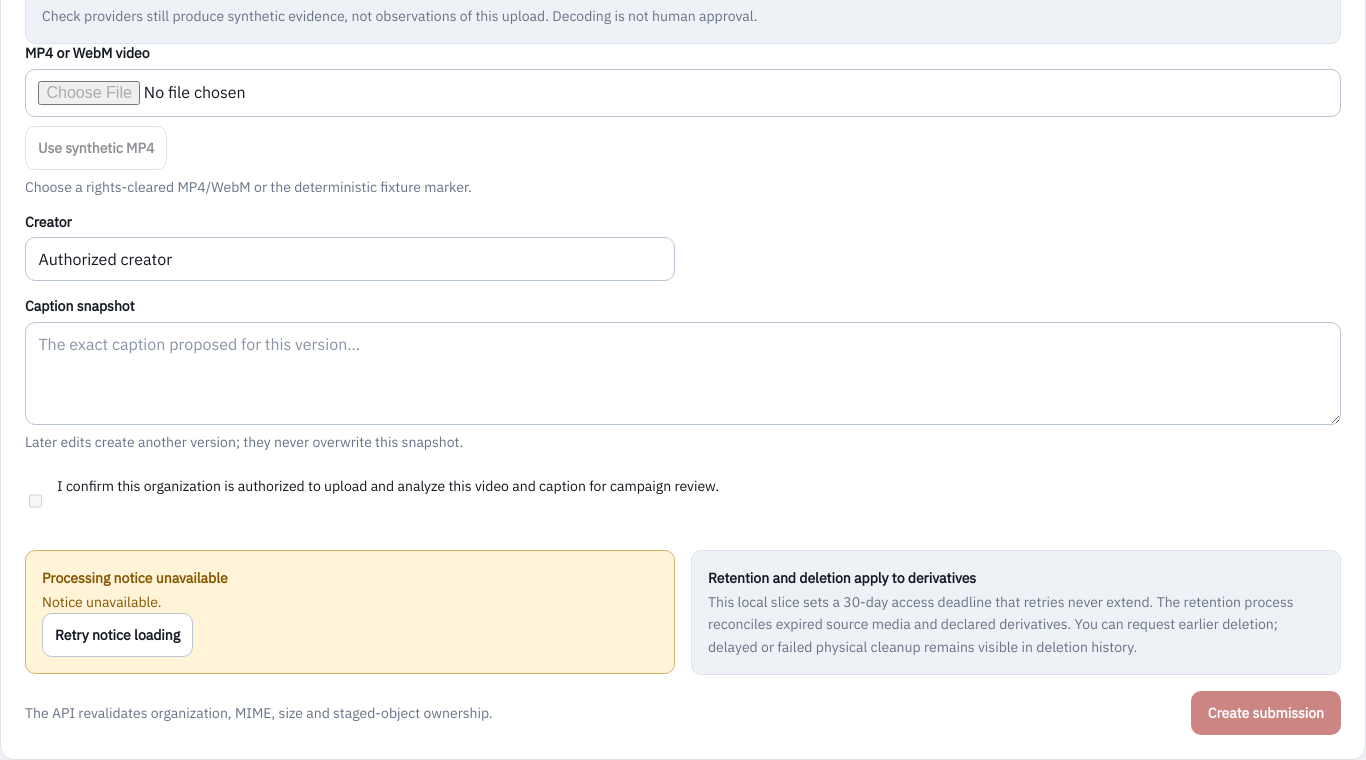
Scenario: media-aware authorized uploader › blocks intake when a notice cannot load and offers an explicit retry
This screenshot has width=1366, height=760.
(page scrolled)
Check: the text "Processing notice unavailable" is shown, box x1=42 y1=569 x2=228 y2=587
Check: the button "Use synthetic MP4" is disabled, box x1=25 y1=126 x2=167 y2=170
What coordinates should you click on to do the following:
click the button "Retry notice loading"
I would click on:
 (118, 635)
Its box is x1=42 y1=613 x2=193 y2=657.
(page scrolled)
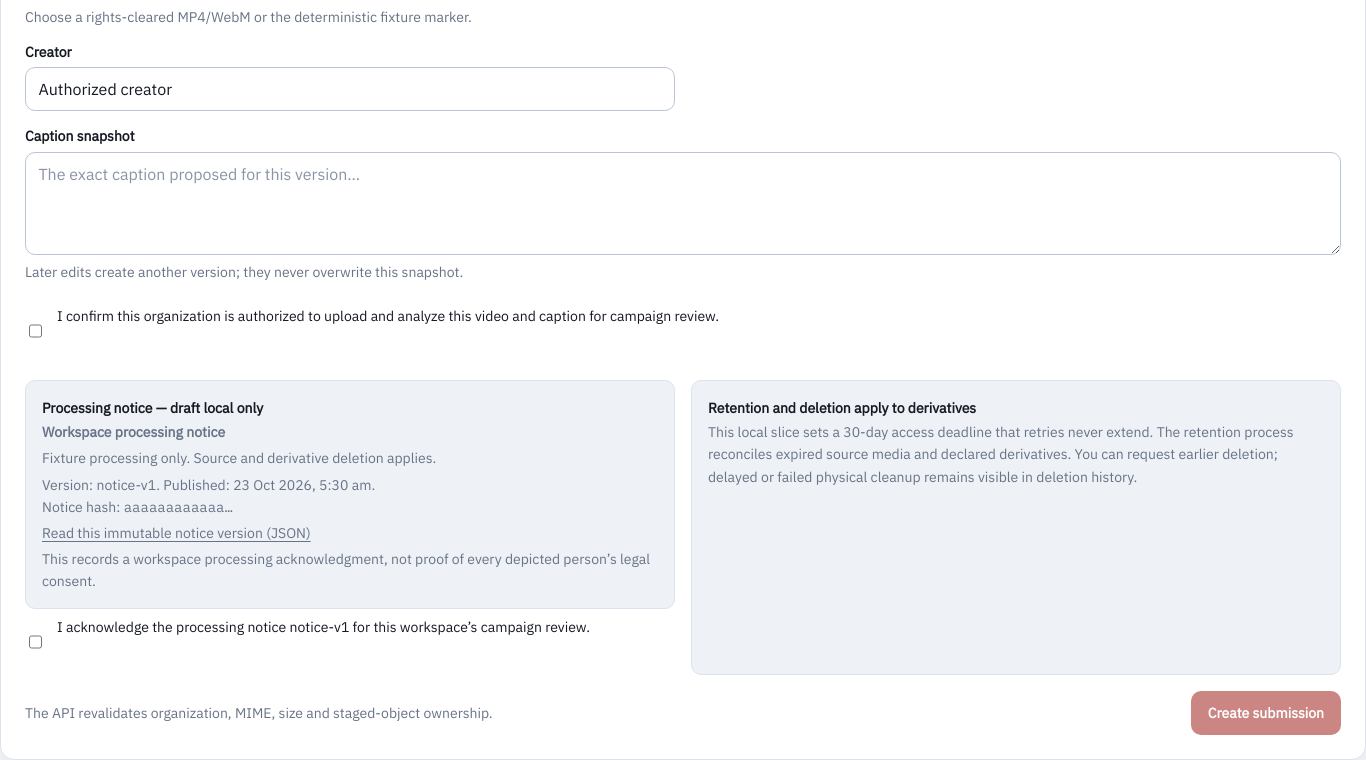
Check: the checkbox labelled "I acknowledge the processing notice" is not checked, box x1=29 y1=620 x2=42 y2=664
